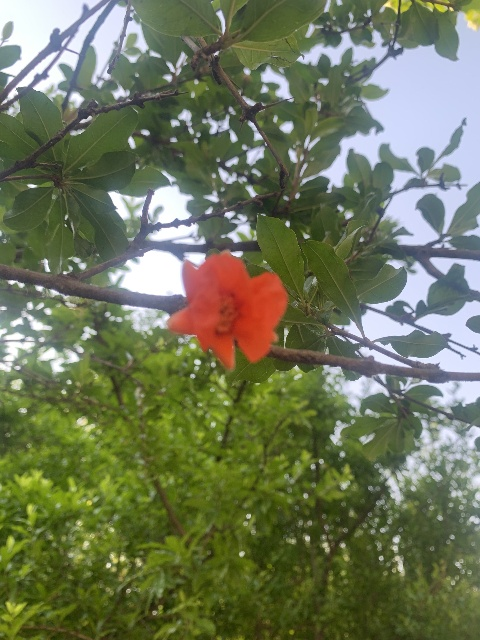flower: (166, 250, 288, 370)
